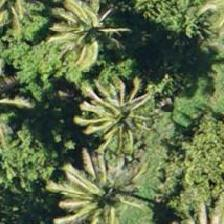coconut_tree: (93, 68, 183, 158), (89, 0, 179, 83), (48, 0, 138, 61), (66, 166, 156, 223), (0, 47, 46, 137)
